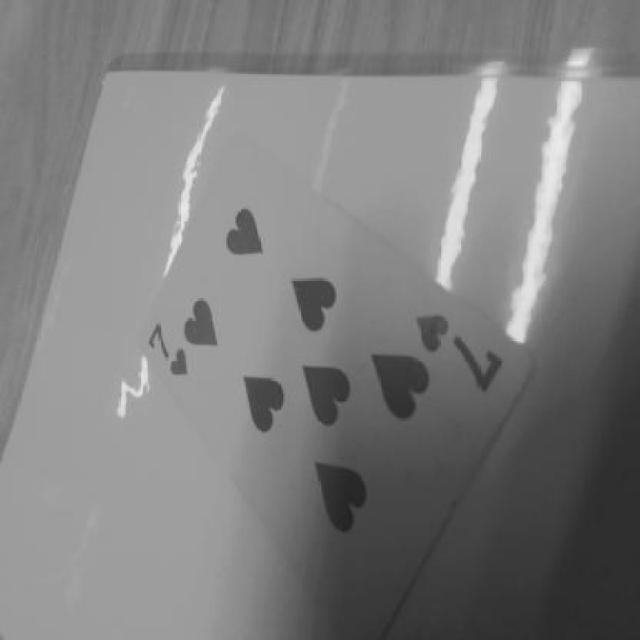7H: (416, 303, 502, 397), (138, 319, 194, 398)
